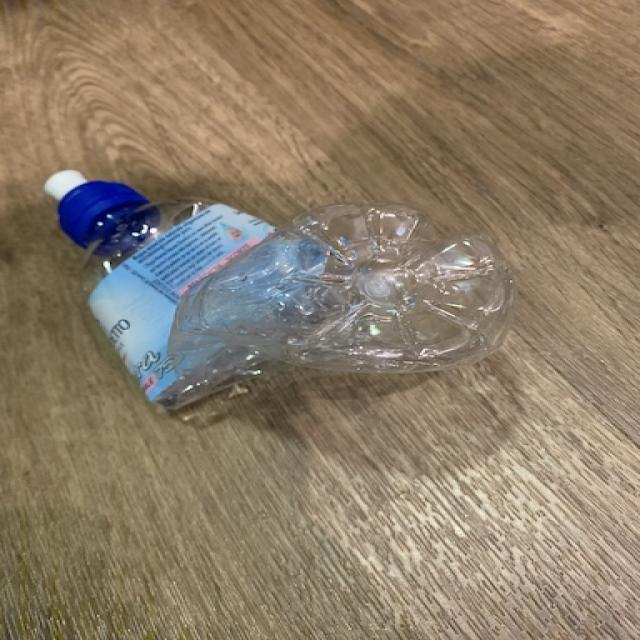Waste: (43, 171, 515, 409)
